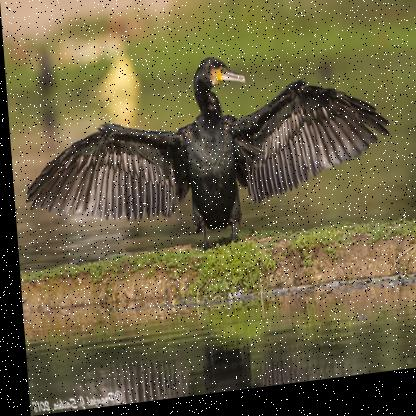Burung: (15, 47, 394, 270)
